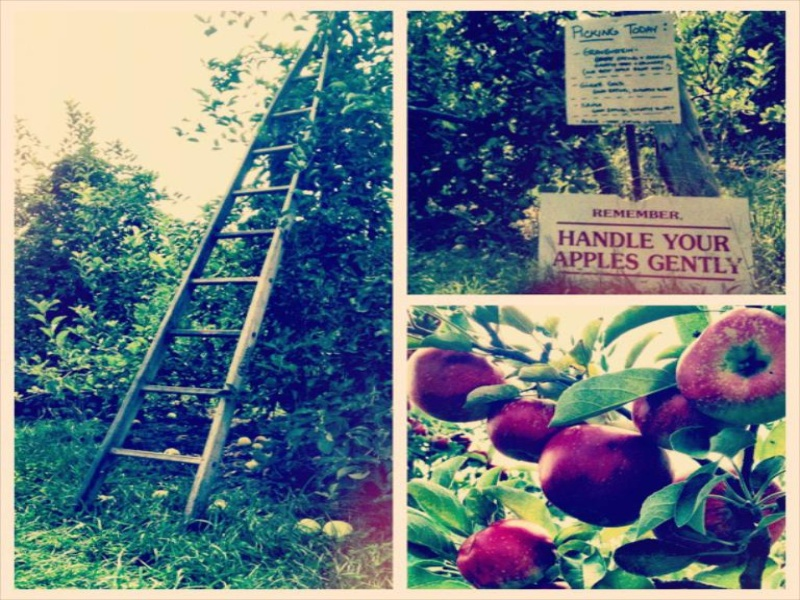apple: (663, 303, 794, 431), (536, 419, 677, 524), (446, 521, 577, 591), (406, 345, 519, 425)
